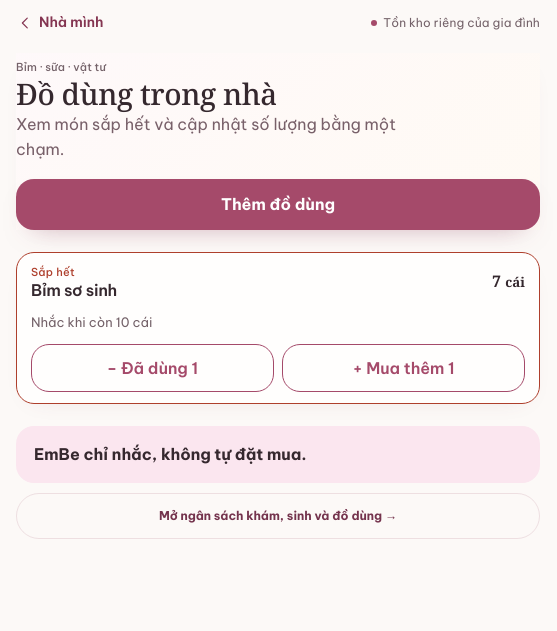
Test: mobile inventory page › queues a one-tap consume action and refreshes the snapshot
The image size is (557, 631).
Click the button with aria-label "Đã dùng 1 Bỉm sơ sinh" at point(152, 368), box [31,344,274,392]
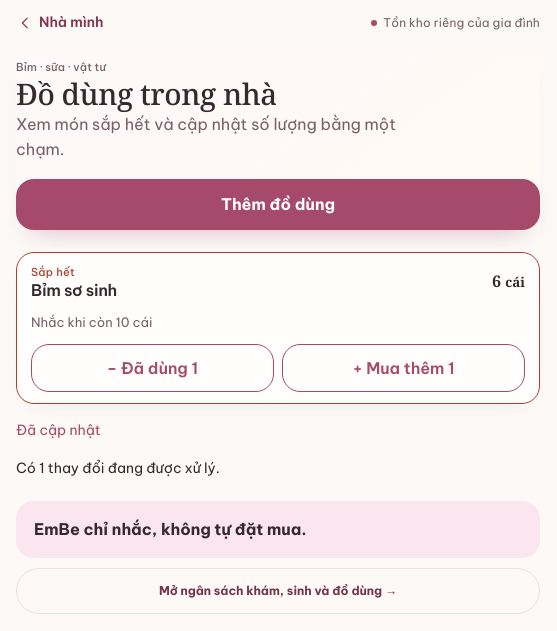
Check: the text "Đã cập nhật" is shown, box [16,421,101,439]
Check: the element that starts with "Sắp hết" shows "6 cái", box [16,252,540,404]
